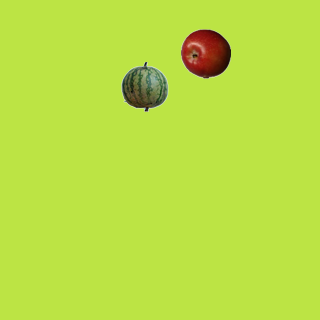Apple Braeburn: (180, 28, 230, 78)
Watermelon: (119, 61, 169, 111)
